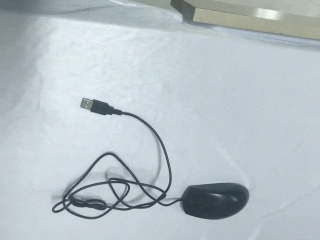mouse: (180, 182, 250, 221)
